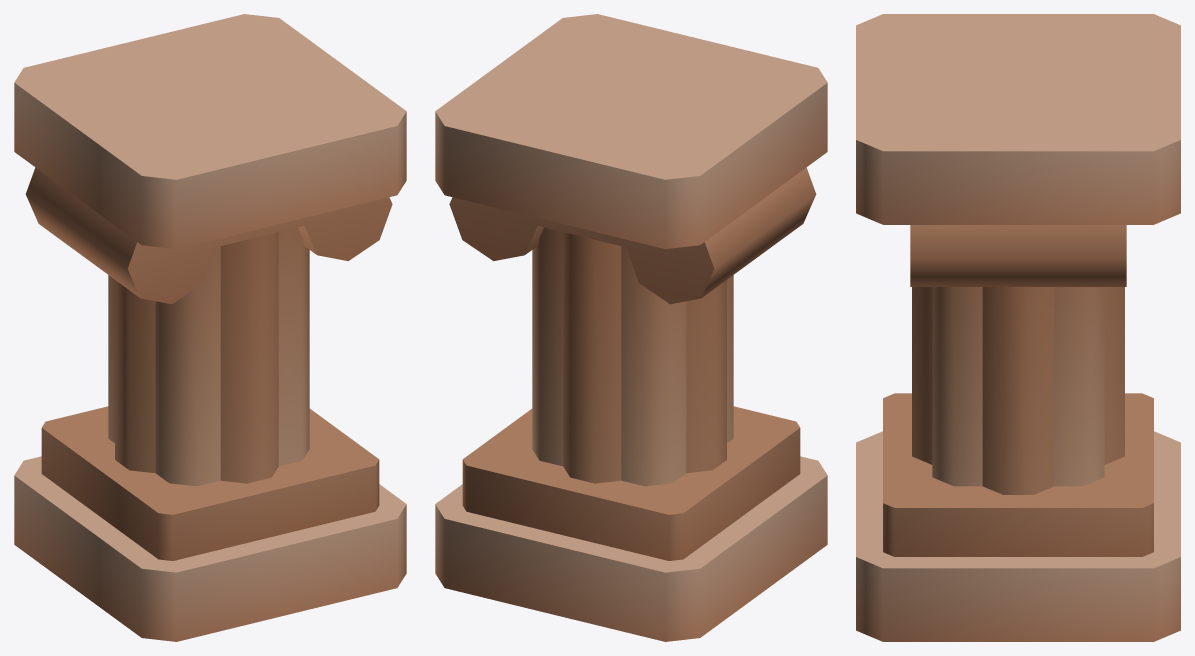
The model's file is column.glb.
3 views of the same model, side by side, from view 1: azimuth 30°, elevation 25°; view 2: azimuth 150°, elevation 25°; view 3: azimuth 270°, elevation 25° (orthographic). The views are drawn at different scales.
Parts seen in each view (by area): view 1: column; view 2: column; view 3: column.
Part boxes in pixels (x1=…): column: x1=14, y1=14, x2=406, y2=641; column: x1=435, y1=14, x2=827, y2=641; column: x1=856, y1=14, x2=1180, y2=641.
Size of the model in its own units: 0.6031 by 1 by 0.6001.
